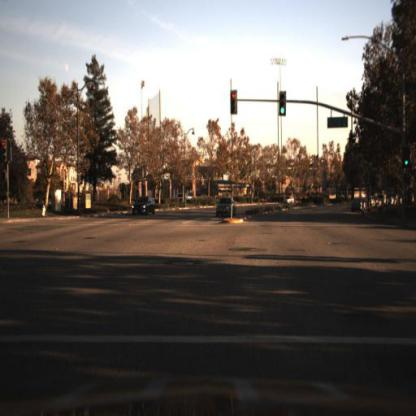car: (130, 193, 157, 222), (215, 194, 238, 223), (132, 197, 159, 215), (217, 195, 238, 218), (349, 193, 366, 214), (175, 190, 196, 203), (350, 196, 364, 214), (283, 192, 298, 207)
trafficLight-Green: (279, 90, 288, 118), (404, 143, 412, 171), (280, 102, 287, 120), (402, 155, 411, 168)
trafficLight-RedLeft: (231, 88, 241, 114), (232, 88, 239, 111)
